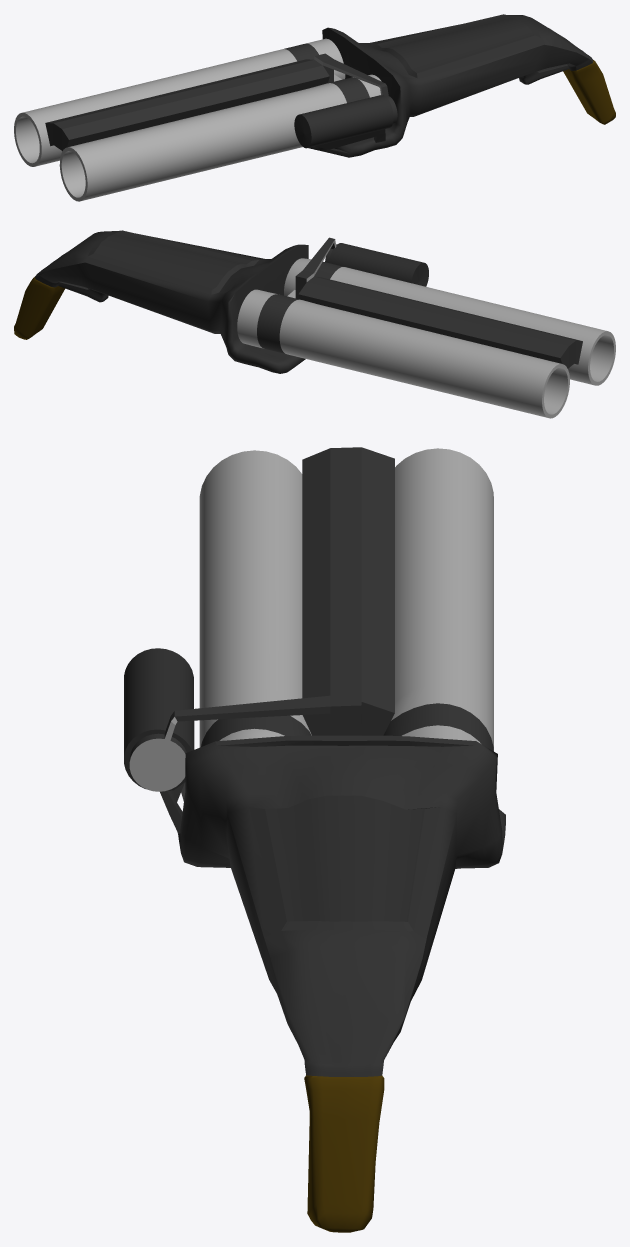
File: shotgun.fbx
The picture shows the model from 3 angles, top to bottom: view 1: azimuth 30°, elevation 25°; view 2: azimuth 150°, elevation 25°; view 3: azimuth 270°, elevation 25°; orthographic projection. The views are drawn at different scales.
Parts seen in each view (by area): view 1: barrels, handle; view 2: barrels, handle; view 3: handle, barrels.
Boxes of the visible parts, x1,y1,x2,y2 form: barrels: (14, 38, 397, 201); handle: (294, 14, 615, 157); barrels: (237, 237, 615, 418); handle: (14, 230, 428, 373); handle: (124, 648, 505, 1232); barrels: (129, 447, 493, 791).
Size of the model in its own units: 3.95 by 0.8851 by 1.17.
